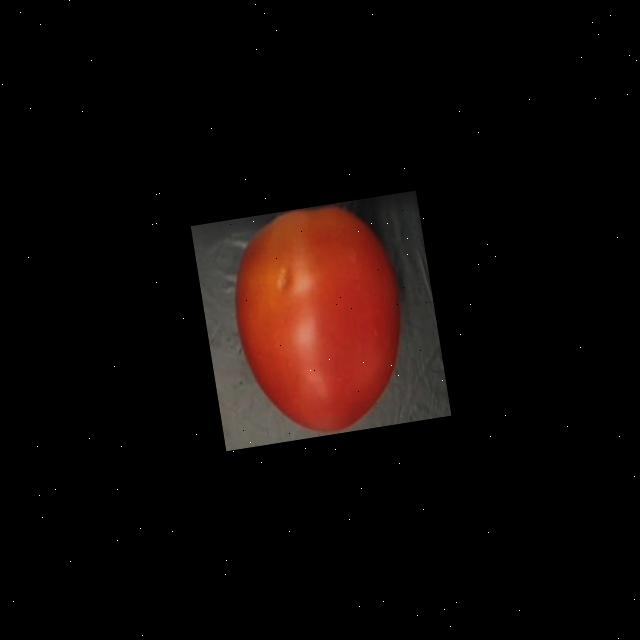tomato: (216, 192, 430, 446)
